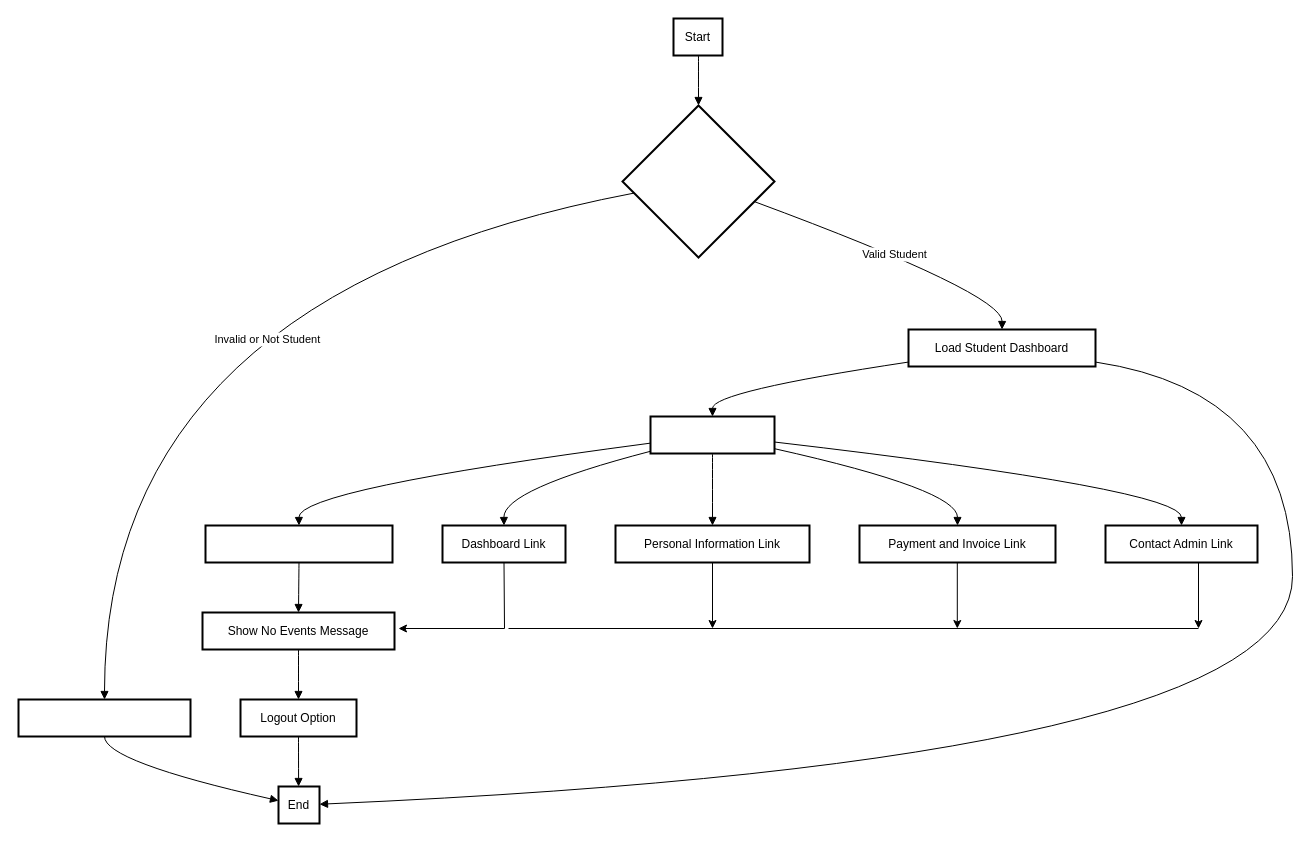
Some shapes in this 1310 by 841 pixel diagram are drawn without their labels. Each missing label, with the centre of its shape:
"Check Session" belongs at pixel 698 181.
"Display Sidebar" belongs at pixel 712 434.
"Redirect to index.php" belongs at pixel 104 717.
"Show Welcome Message" belongs at pixel 298 543.
